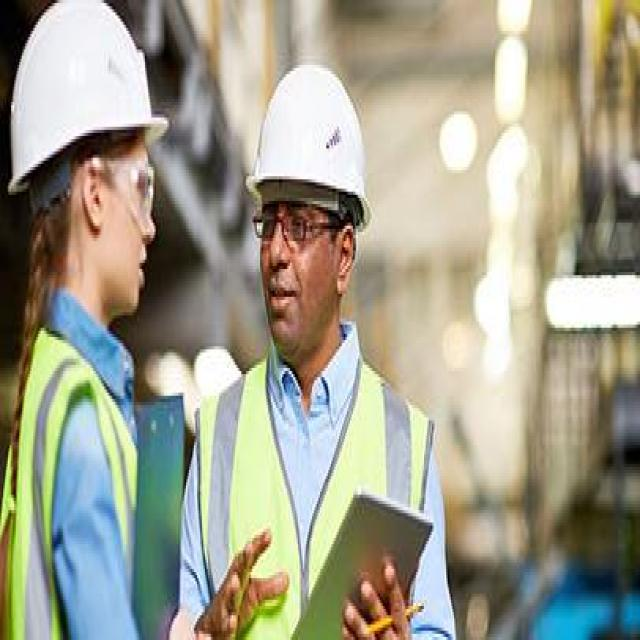Reflective-Jacket: (193, 355, 441, 640), (0, 315, 143, 639)
Safety-Helmet: (3, 3, 169, 207), (244, 56, 376, 226)
